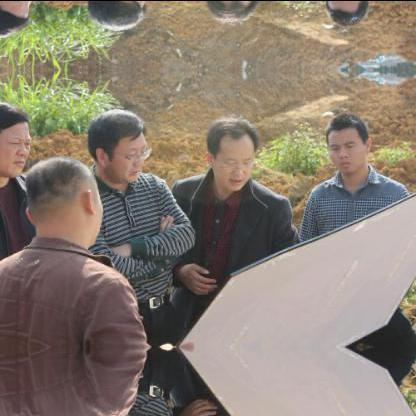No Helmet: (19, 154, 103, 248), (88, 106, 150, 180), (202, 112, 260, 190), (322, 108, 372, 176), (87, 0, 151, 31), (201, 0, 262, 25), (321, 0, 373, 29)
